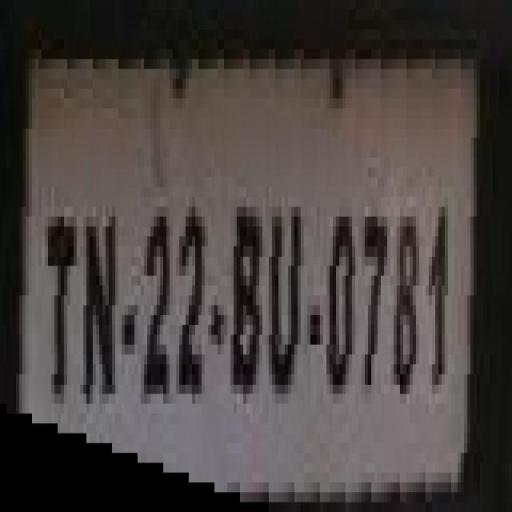number plate: (10, 59, 474, 492)
